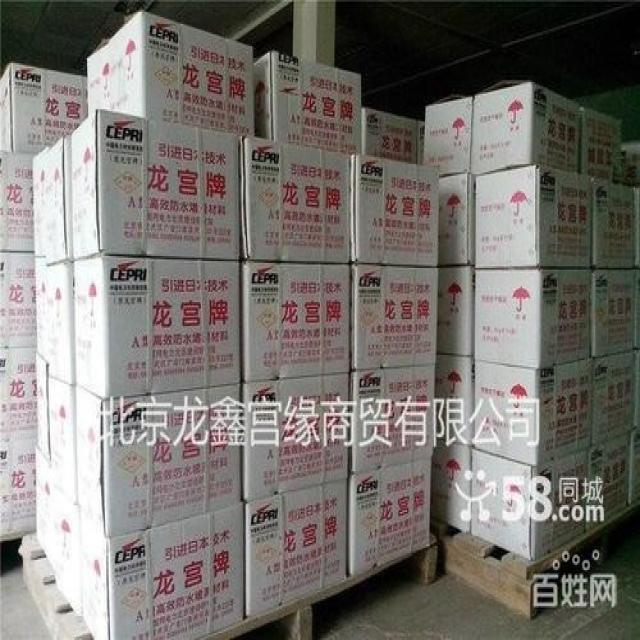box: (74, 382, 243, 536), (71, 110, 243, 260), (73, 254, 242, 396), (79, 501, 245, 638), (85, 12, 253, 135), (242, 133, 353, 262), (242, 370, 351, 500), (468, 447, 591, 561), (246, 479, 349, 615), (472, 358, 594, 466), (242, 262, 351, 381), (476, 167, 593, 268), (474, 268, 593, 366), (254, 49, 362, 153), (470, 80, 581, 173), (351, 155, 441, 265), (350, 457, 431, 575), (351, 264, 439, 368), (351, 366, 438, 470), (0, 62, 88, 152), (48, 470, 80, 617), (430, 435, 474, 533), (591, 174, 636, 265), (588, 435, 632, 527), (593, 350, 636, 443), (48, 374, 78, 507), (0, 344, 36, 451), (424, 96, 472, 175), (46, 259, 75, 386), (593, 271, 635, 356), (0, 251, 37, 347), (1, 150, 35, 253), (436, 352, 474, 444), (580, 103, 623, 183), (440, 173, 477, 264), (45, 135, 71, 263), (361, 104, 418, 162), (438, 266, 474, 354), (0, 446, 35, 536), (33, 148, 48, 261), (35, 448, 50, 559), (35, 253, 49, 367), (36, 347, 49, 465), (622, 140, 639, 186), (629, 429, 638, 500), (634, 348, 639, 432), (417, 121, 425, 164), (634, 183, 638, 266), (635, 266, 639, 348)
